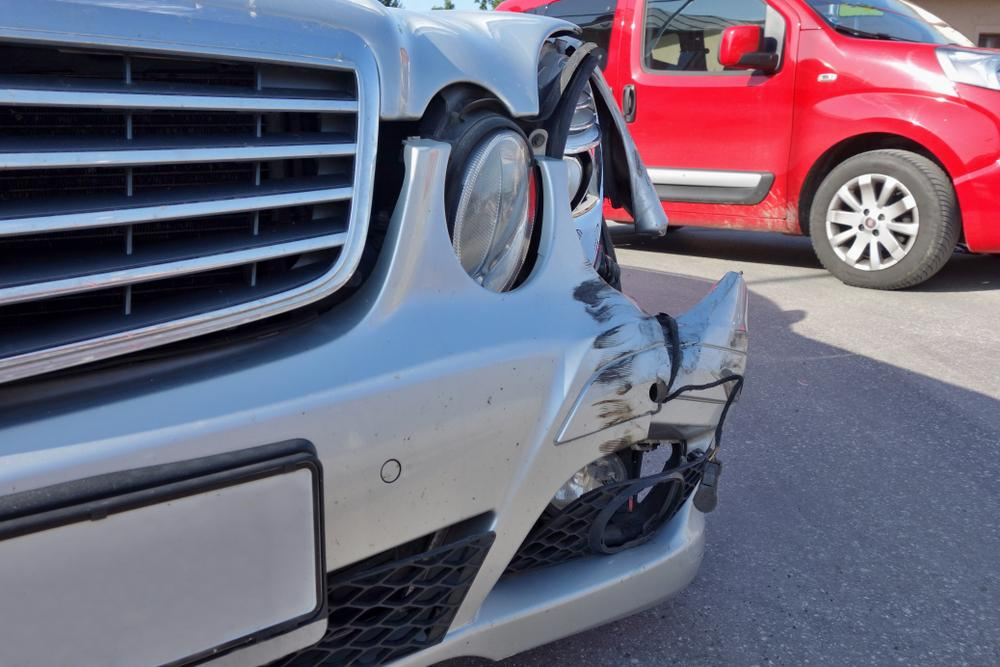scratch: (573, 276, 639, 452)
